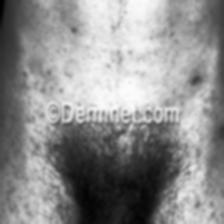Toxin: (183, 66, 224, 224), (0, 69, 34, 224), (58, 52, 152, 104)
